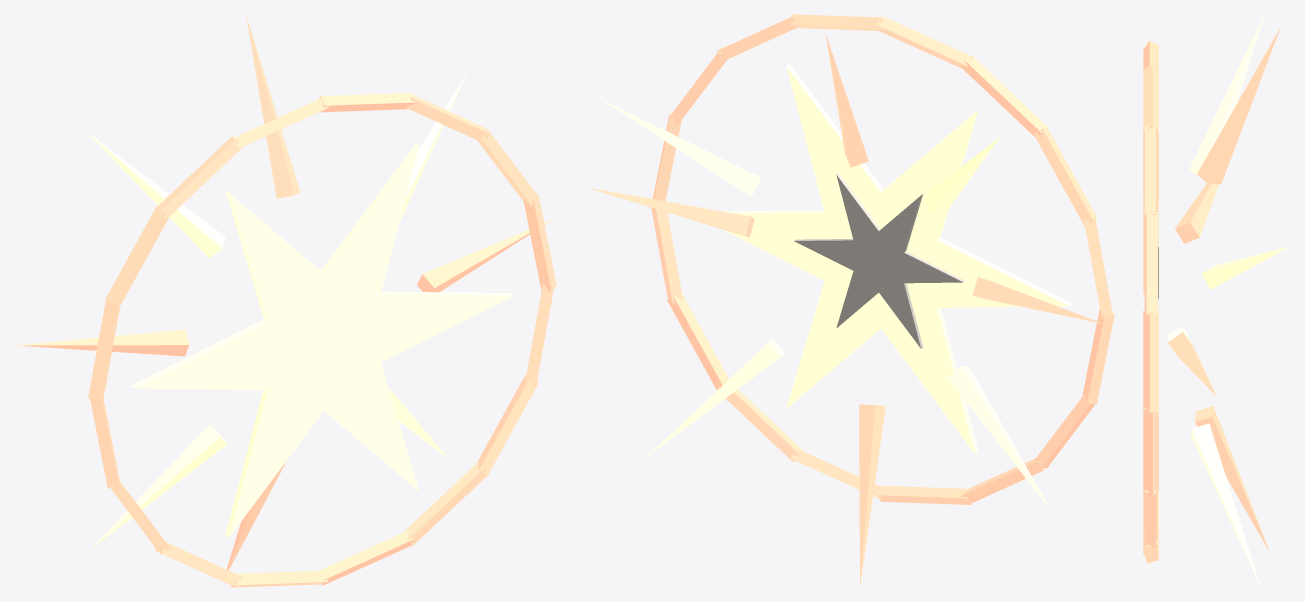
Rendered from FX_AegisPunch.fbx.
3 views of the same model, side by side, from view 1: azimuth 30°, elevation 25°; view 2: azimuth 150°, elevation 25°; view 3: azimuth 270°, elevation 25° (orthographic). The views are drawn at different scales.
Visible parts, largest first — view 1: Punch_Star, Punch_Ring, Punch_Shard5, Punch_Shard4, Punch_Shard2, Punch_Shard3, Punch_Shard0, Punch_Shard1, Punch_Shard6, Punch_Shard7; view 2: Punch_Star, Punch_Ring, Punch_Core, Punch_Shard6, Punch_Shard5, Punch_Shard1, Punch_Shard0, Punch_Shard7, Punch_Shard2, Punch_Shard4, Punch_Shard3; view 3: Punch_Ring, Punch_Shard2, Punch_Shard7, Punch_Shard3, Punch_Shard6, Punch_Shard4, Punch_Shard1, Punch_Shard0.
Boxes of the visible parts, bbox=[...] form: Punch_Star: bbox=[130, 144, 514, 537]; Punch_Ring: bbox=[88, 92, 556, 587]; Punch_Shard5: bbox=[90, 424, 227, 549]; Punch_Shard4: bbox=[15, 329, 188, 356]; Punch_Shard2: bbox=[246, 15, 299, 198]; Punch_Shard3: bbox=[87, 132, 225, 258]; Punch_Shard0: bbox=[417, 219, 553, 292]; Punch_Shard1: bbox=[399, 73, 467, 221]; Punch_Shard6: bbox=[226, 461, 286, 570]; Punch_Shard7: bbox=[389, 389, 448, 458]; Punch_Star: bbox=[722, 63, 1072, 454]; Punch_Ring: bbox=[651, 14, 1114, 505]; Punch_Core: bbox=[794, 173, 965, 348]; Punch_Shard6: bbox=[859, 404, 885, 586]; Punch_Shard5: bbox=[947, 366, 1051, 511]; Punch_Shard1: bbox=[596, 96, 760, 196]; Punch_Shard0: bbox=[586, 187, 754, 237]; Punch_Shard7: bbox=[646, 338, 784, 457]; Punch_Shard2: bbox=[825, 33, 868, 167]; Punch_Shard4: bbox=[972, 277, 1103, 323]; Punch_Shard3: bbox=[925, 137, 999, 213]; Punch_Ring: bbox=[1143, 40, 1158, 563]; Punch_Shard2: bbox=[1197, 27, 1280, 184]; Punch_Shard7: bbox=[1190, 423, 1260, 585]; Punch_Shard3: bbox=[1189, 15, 1264, 176]; Punch_Shard6: bbox=[1195, 406, 1269, 552]; Punch_Shard4: bbox=[1175, 183, 1218, 243]; Punch_Shard1: bbox=[1201, 246, 1289, 289]; Punch_Shard0: bbox=[1168, 332, 1216, 395].
Bounding box in the file's own units: 0.8944 × 0.895 × 0.2205.
